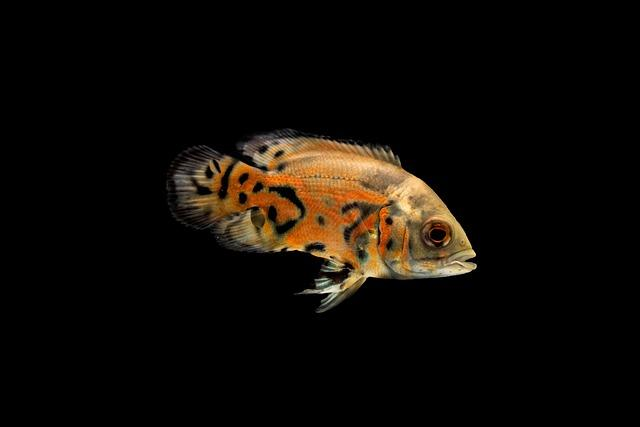Non_Gorille: (122, 37, 532, 356)
